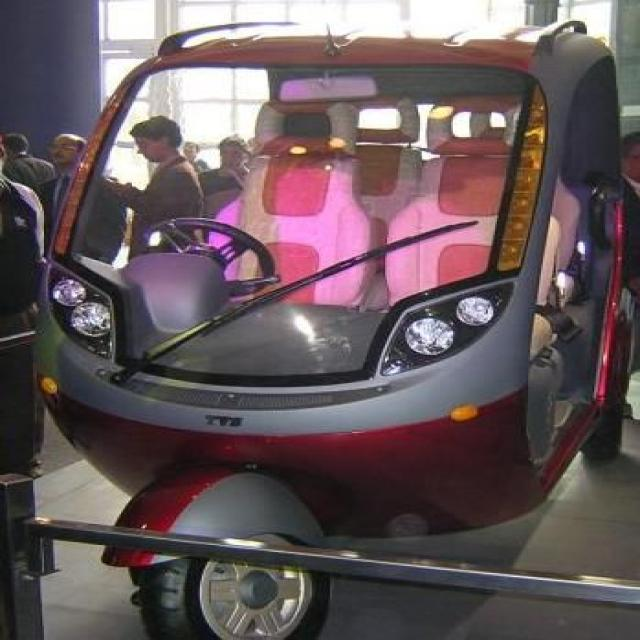autorickshaw: (35, 20, 640, 640)
